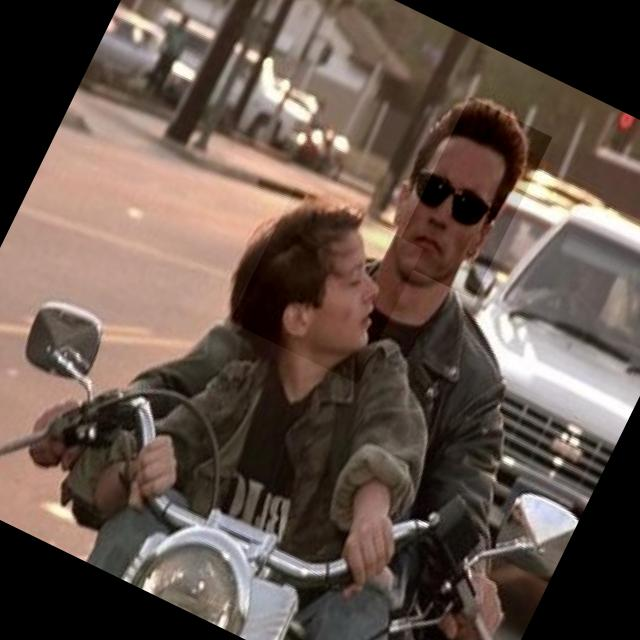without helmet: (230, 186, 422, 384), (390, 96, 552, 300)
